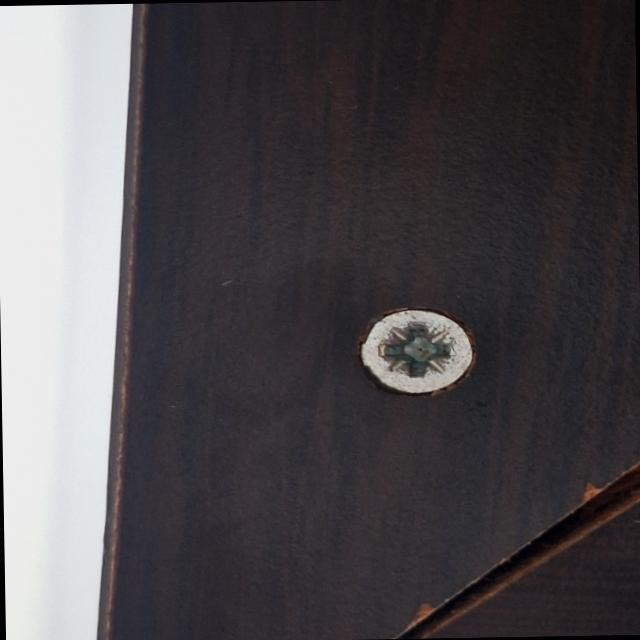Pozidriv: (338, 303, 478, 406)
